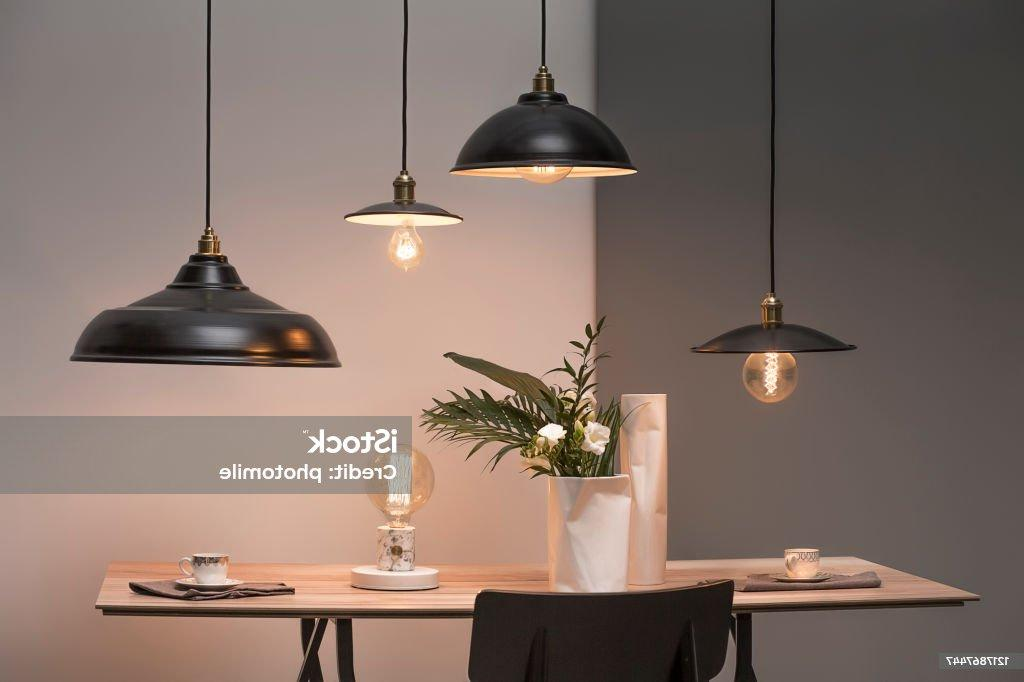chair: (461, 572, 735, 682)
light: (64, 1, 339, 373), (685, 0, 862, 416), (448, 0, 642, 190), (341, 0, 460, 268), (349, 444, 434, 589)
table: (87, 546, 979, 682)
